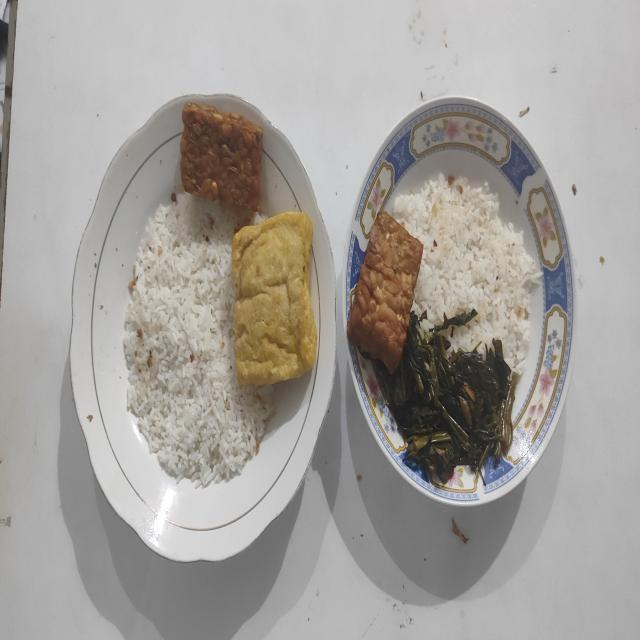nasi_putih: (124, 190, 270, 488), (394, 174, 539, 371)
tahu_goreng: (232, 212, 316, 386)
tempe_goreng: (348, 210, 423, 373), (180, 103, 263, 212)
tumis_kangkung: (356, 309, 516, 484)
